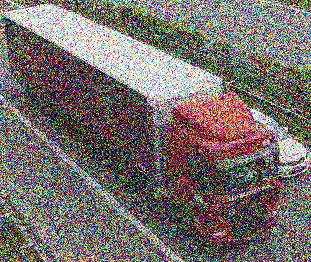truck: (3, 4, 282, 252)
